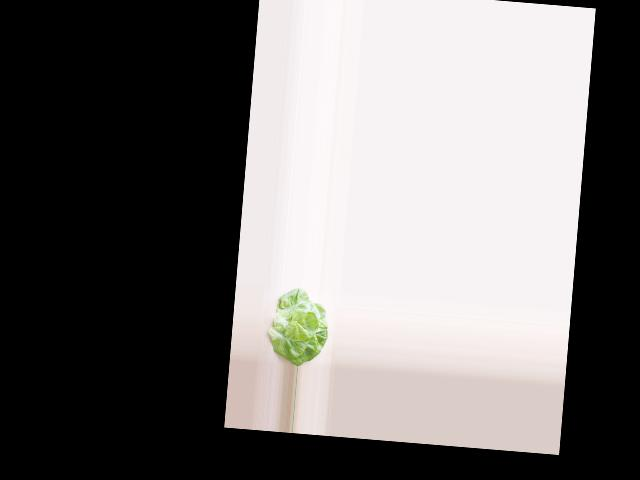lettuce: (268, 288, 331, 366)
